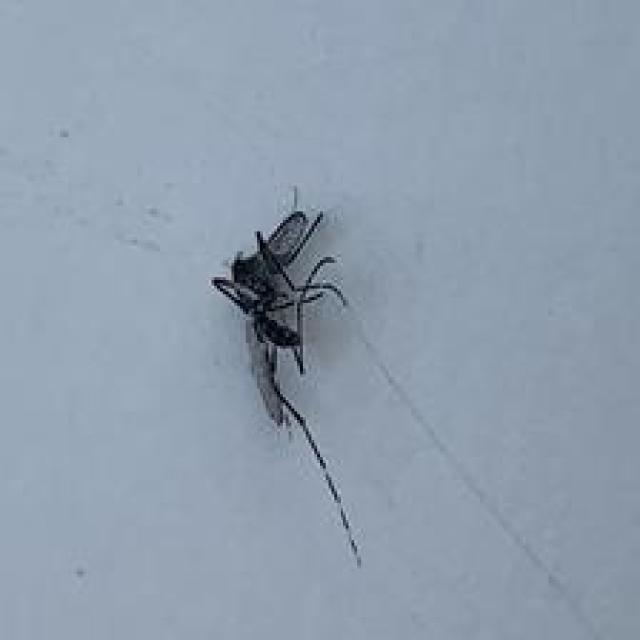Aedes albopictus: (208, 187, 363, 567)
